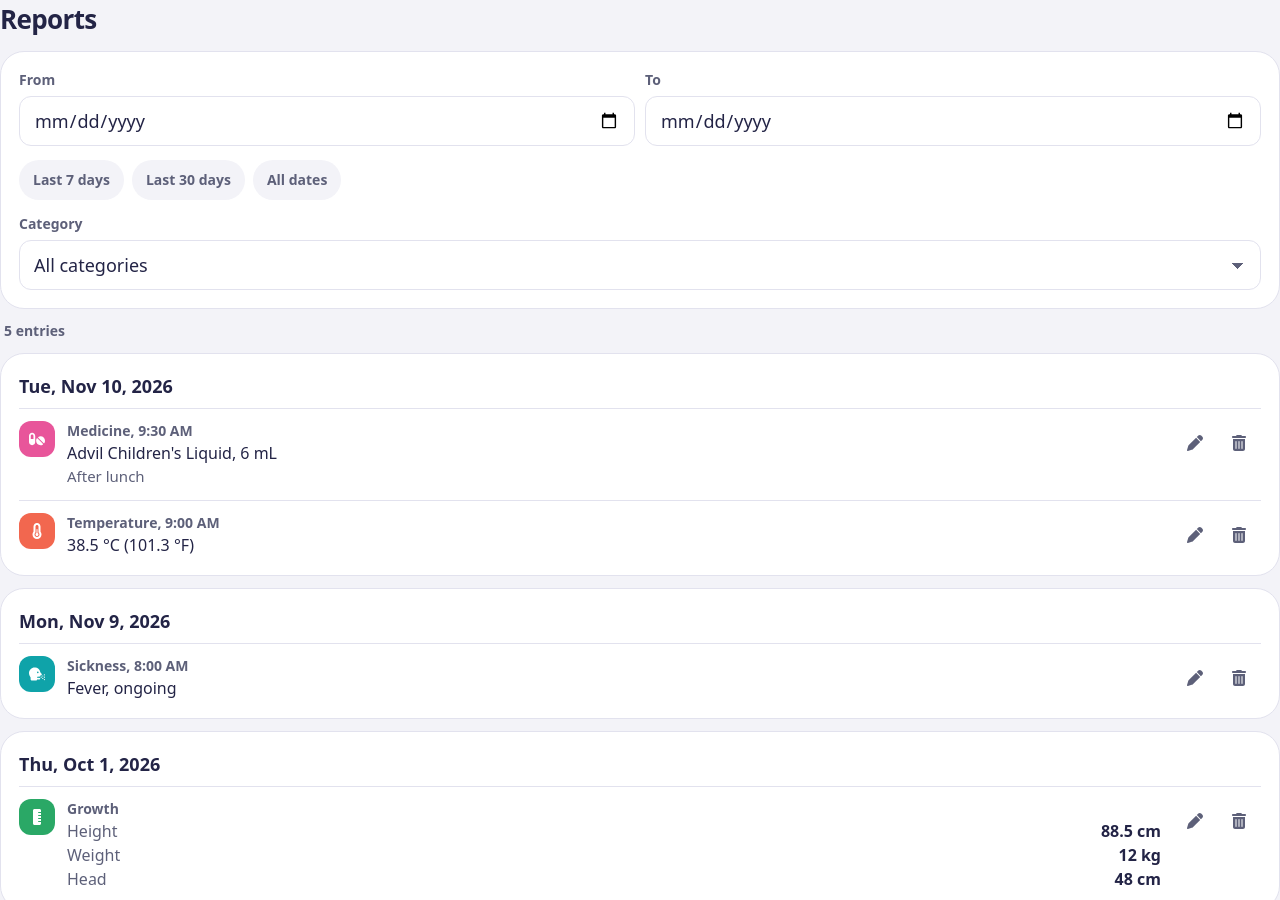
Test: ReportsPage › filters the list by one or several types
The width and height of the screenshot is (1280, 900).
Click the button named "Category" at (91, 265), box [19,240,1261,290]
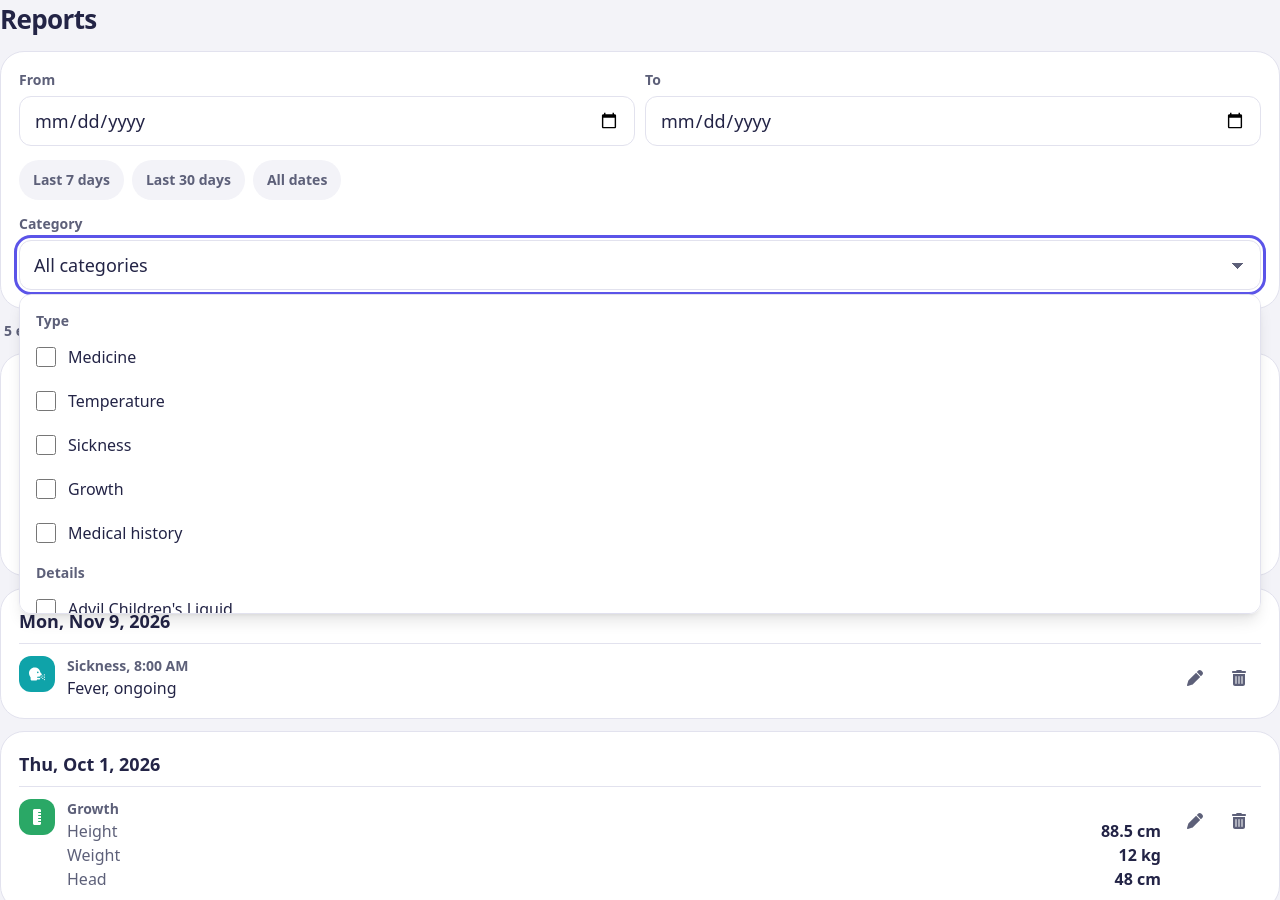
Click the checkbox labelled "Medicine" at (46, 357), box [36,347,56,367]
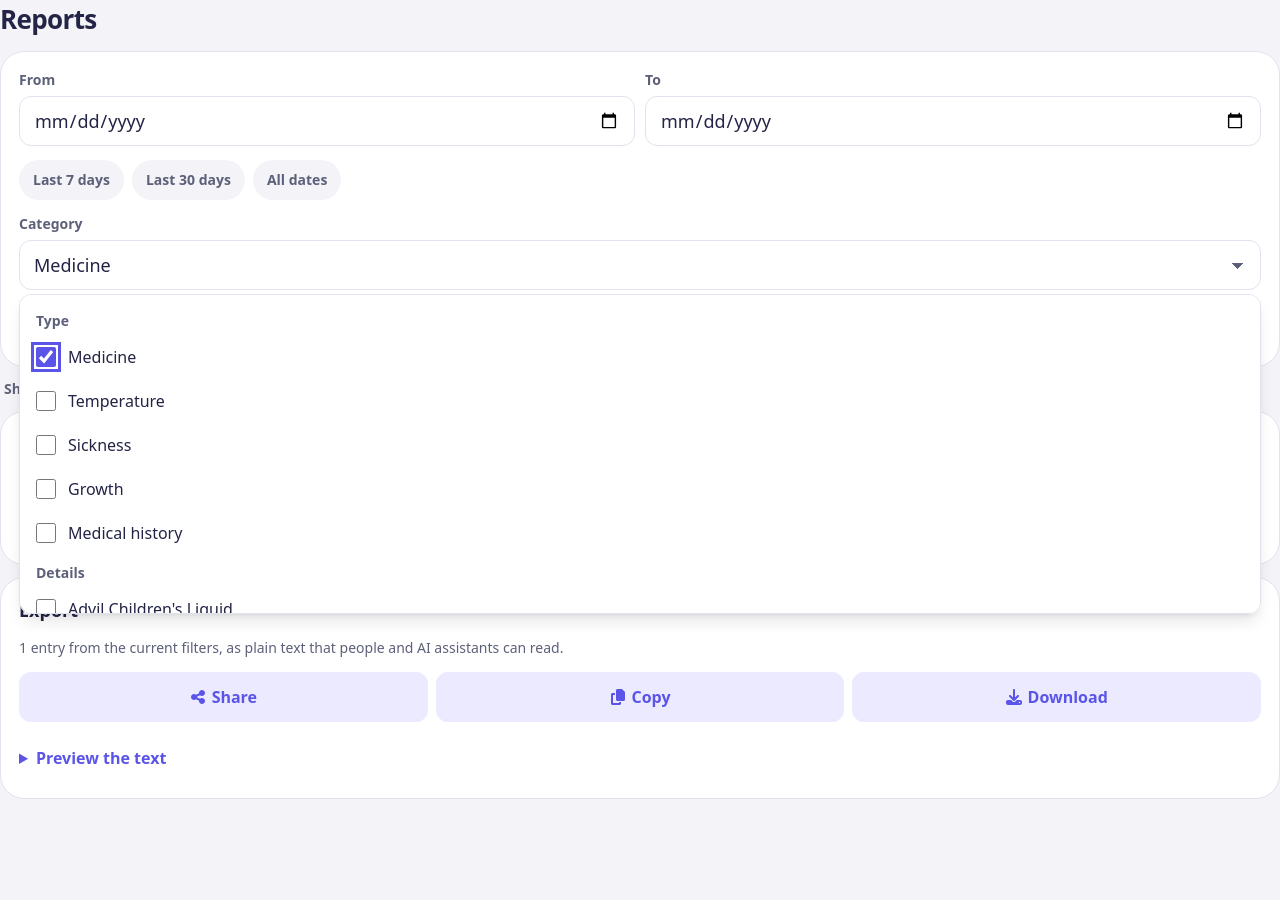
Expected: the number of list items is 1, [19,466,1261,546]
Click the checkbox labelled "Temperature" at (46, 401), box [36,391,56,411]
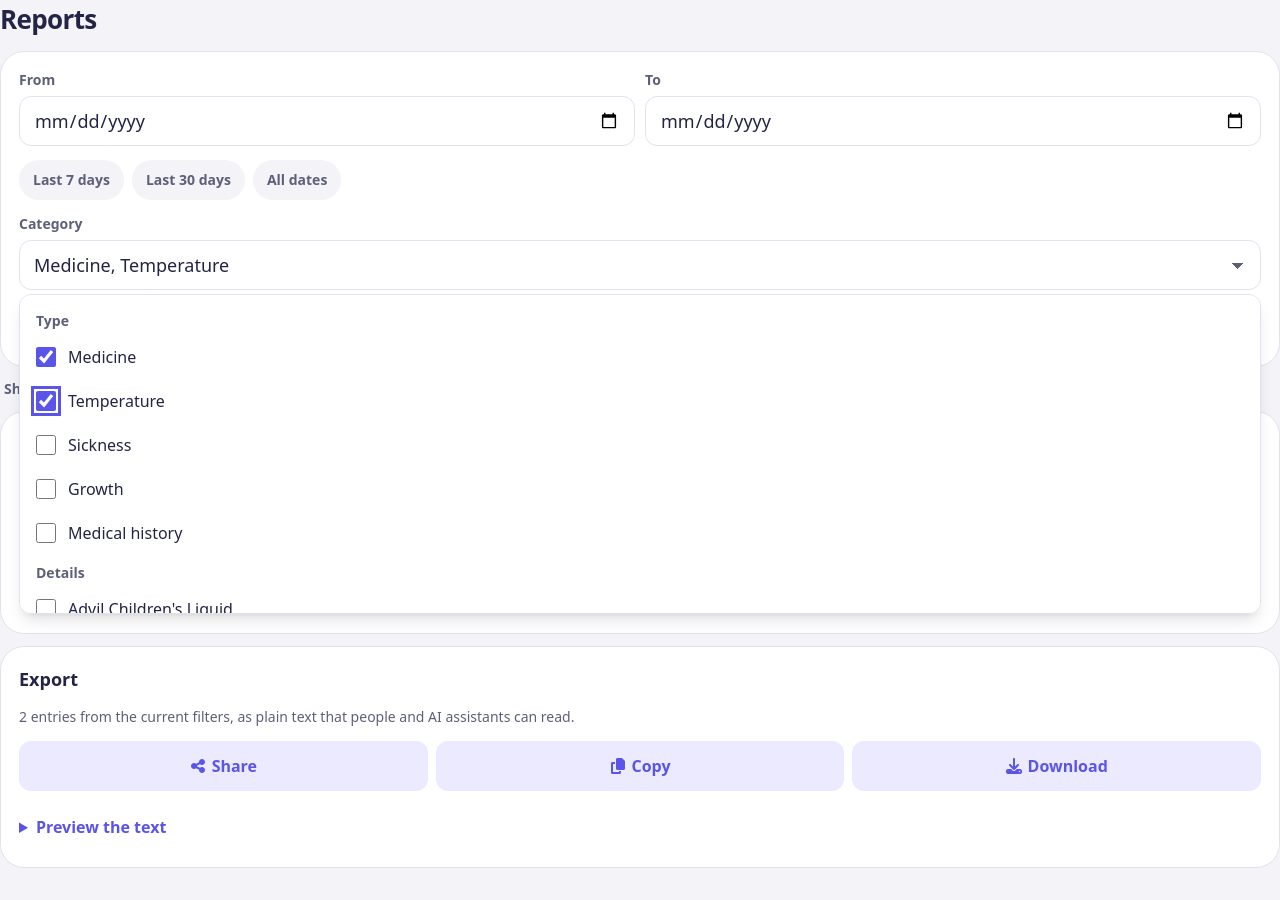
Now the number of list items is 2, box [19,466,1261,558]; [19,558,1261,614]
Now the text "Showing 2 of 5 entries" is shown, box [4,379,158,398]
